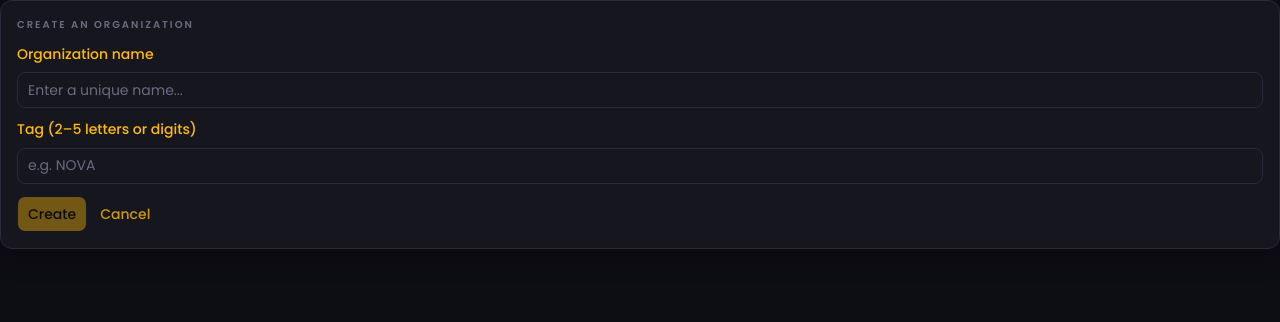
Test case: CreateOrganisationForm › keeps Create disabled and explains while a field is invalid
Expected: the button "Create" is disabled, [17,196,87,232]
Type "No" into the field labelled "Organization name" at (640, 90), box [17,72,1263,108]
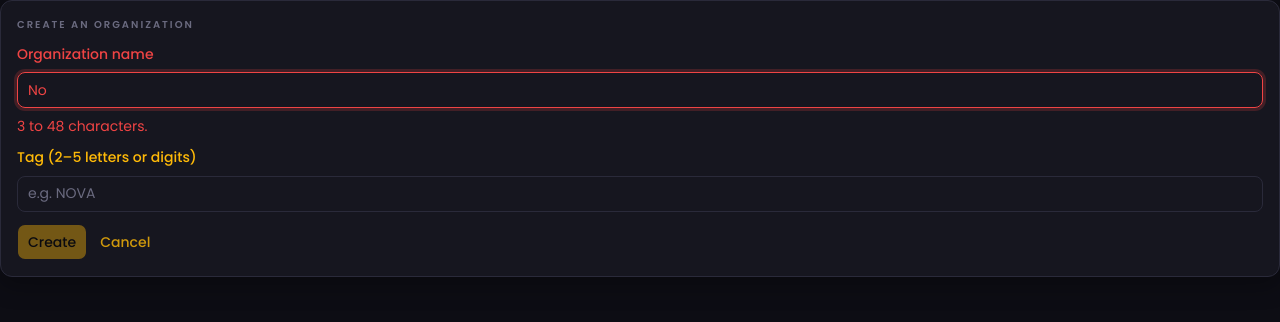
Type "N" into the field labelled "Tag (2–5 letters or digits)" at (640, 194), box [17,176,1263,212]
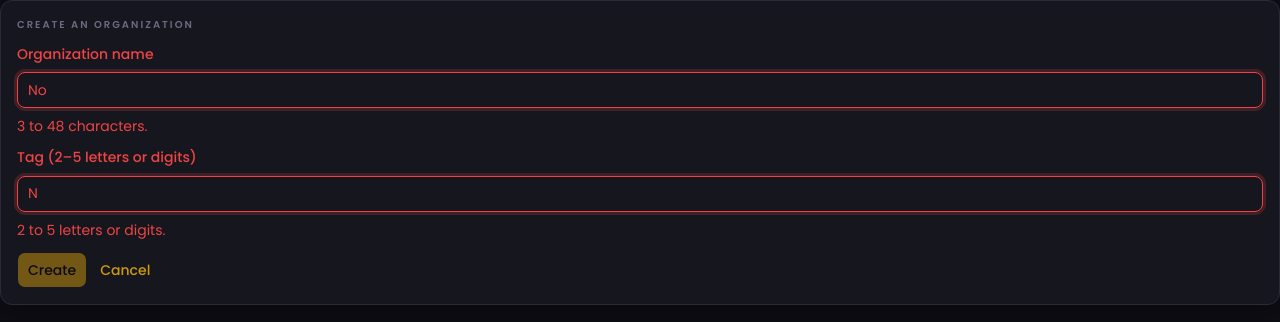
Expected: the button "Create" is disabled, [17,252,87,288]
Result: the text "3 to 48 characters." is shown at [17,116,148,136]
Result: the text "2 to 5 letters or digits." is shown at [17,220,166,240]
